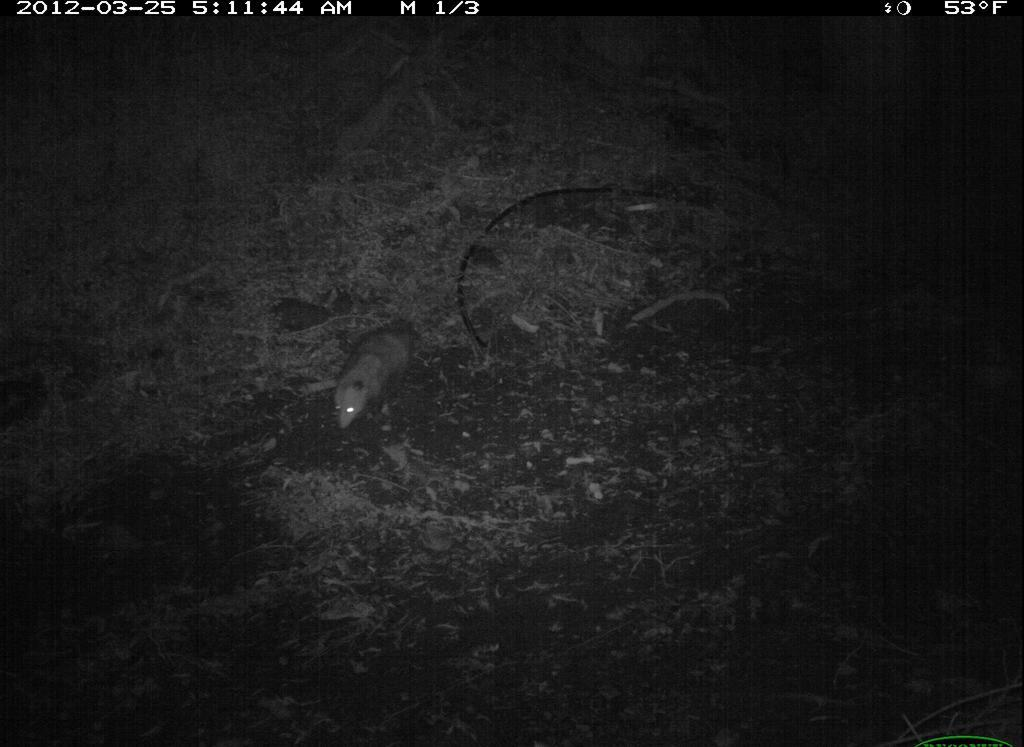opossum: (327, 310, 428, 438)
